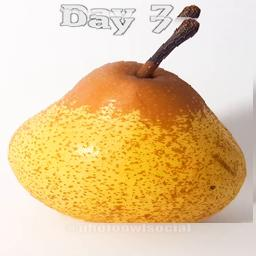Peach Semirotten: (9, 4, 254, 223)
